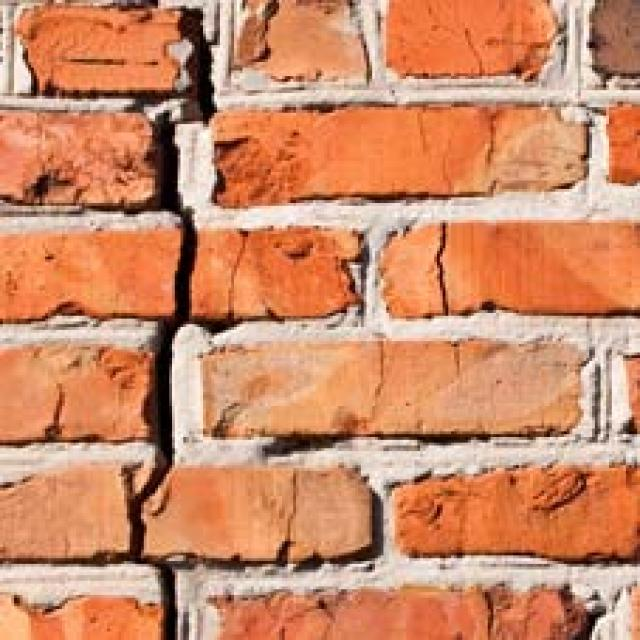Crack: (61, 0, 266, 633)
